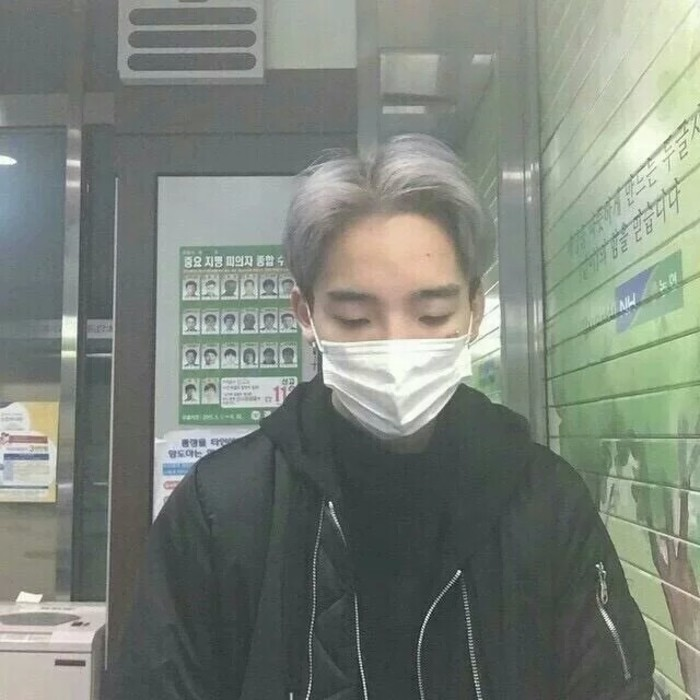face_mask: (308, 213, 469, 431)
